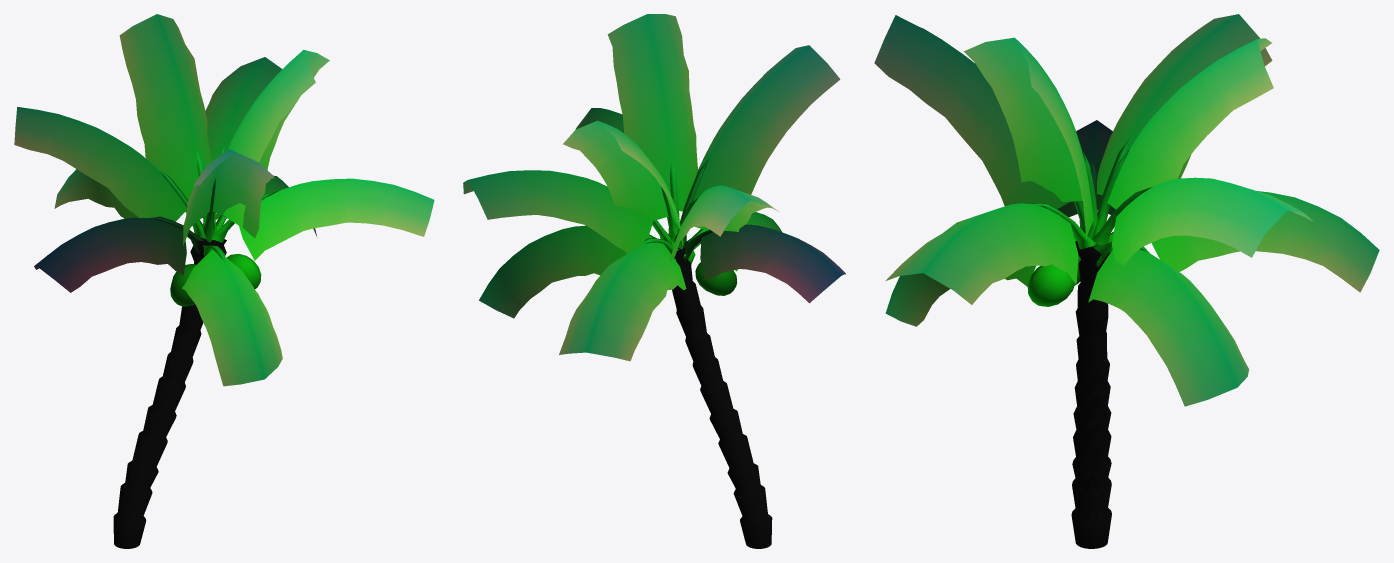
The model's file is Palm04.fbx.
3 renders of one model, left to right at view 1: azimuth 30°, elevation 25°; view 2: azimuth 150°, elevation 25°; view 3: azimuth 270°, elevation 25°, orthographic. The views are drawn at different scales.
Visible parts, largest first — view 1: _1, _0; view 2: _1, _0; view 3: _1, _0.
Part boxes in pixels (x1=…): _1: x1=14, y1=14, x2=434, y2=386; _0: x1=113, y1=147, x2=280, y2=548; _1: x1=463, y1=14, x2=845, y2=361; _0: x1=642, y1=157, x2=772, y2=548; _1: x1=874, y1=14, x2=1379, y2=406; _0: x1=1027, y1=135, x2=1152, y2=548.
Size of the model in its own units: 348 by 485 by 376.
